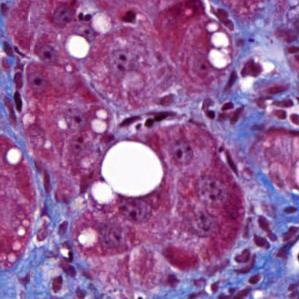inflammation: (114, 109, 182, 134), (241, 212, 280, 251), (238, 56, 265, 82)
